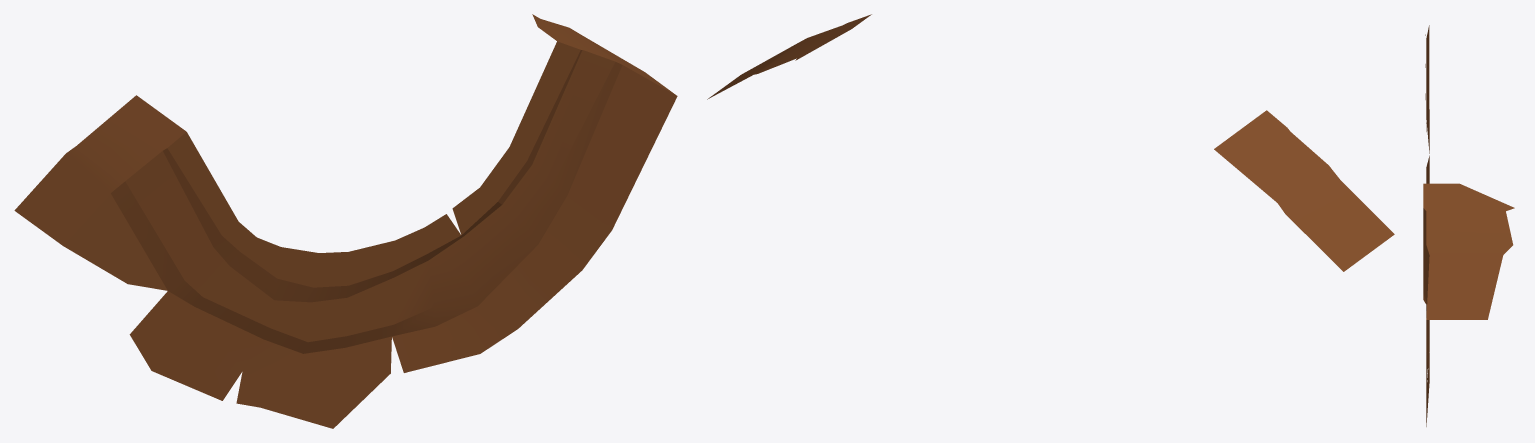
File: Flag_RoundArch.glb
3 renders of one model, left to right at view 1: azimuth 30°, elevation 25°; view 2: azimuth 150°, elevation 25°; view 3: azimuth 270°, elevation 25°, orthographic. The views are drawn at different scales.
Visible parts, largest first — view 1: Flag_RoundArch_Cylinder.008; view 2: Flag_RoundArch_Cylinder.008; view 3: Flag_RoundArch_Cylinder.008.
Boxes of the visible parts, x1,y1,x2,y2 form: Flag_RoundArch_Cylinder.008: (14, 14, 677, 428); Flag_RoundArch_Cylinder.008: (707, 14, 1394, 271); Flag_RoundArch_Cylinder.008: (1423, 25, 1514, 426).
Size of the model in its own units: 2.17 by 1.13 by 0.316.
